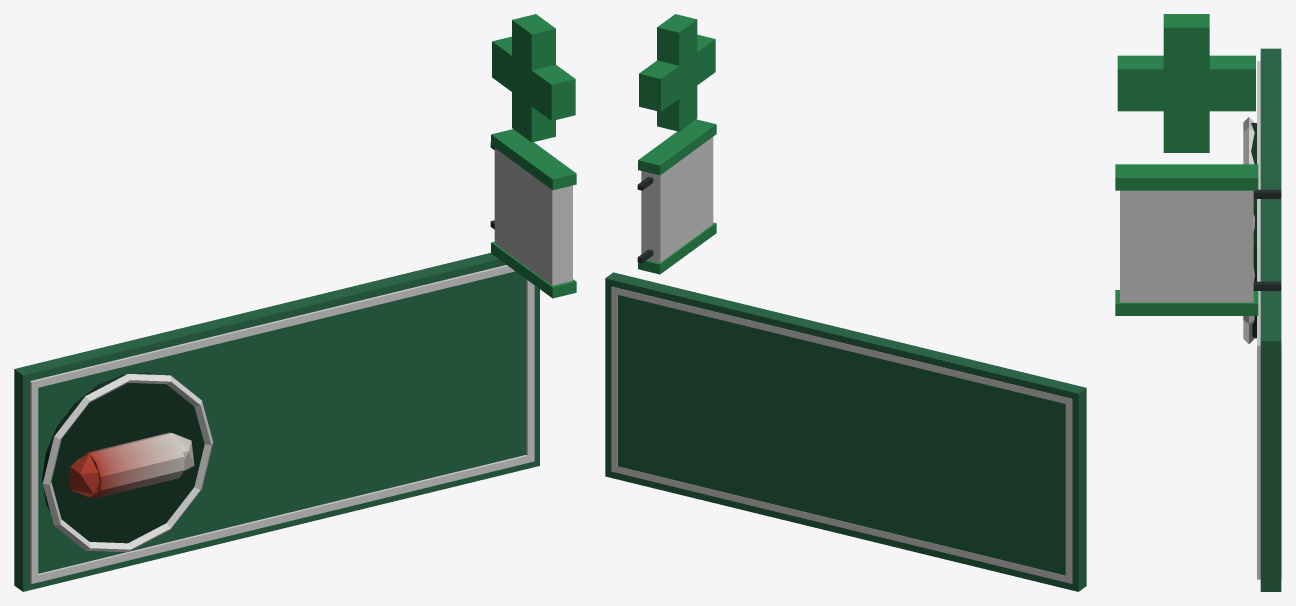
The model's file is bang_quay_thuoc_hanh_phuc_32.glb.
3 views of the same model, side by side, from view 1: azimuth 30°, elevation 25°; view 2: azimuth 150°, elevation 25°; view 3: azimuth 270°, elevation 25° (orthographic). The views are drawn at different scales.
Visible parts, largest first — view 1: bang_quay_thuoc_hanh_phuc_32; view 2: bang_quay_thuoc_hanh_phuc_32; view 3: bang_quay_thuoc_hanh_phuc_32.
Boxes of the visible parts, x1,y1,x2,y2 form: bang_quay_thuoc_hanh_phuc_32: (14, 14, 576, 591); bang_quay_thuoc_hanh_phuc_32: (605, 14, 1086, 591); bang_quay_thuoc_hanh_phuc_32: (1115, 14, 1281, 591).
Size of the model in its own units: 3 by 2.63 by 0.722.
